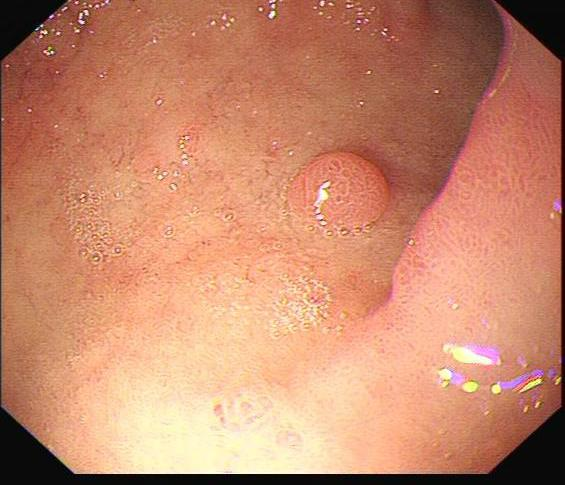Polyp: (285, 151, 387, 236)
